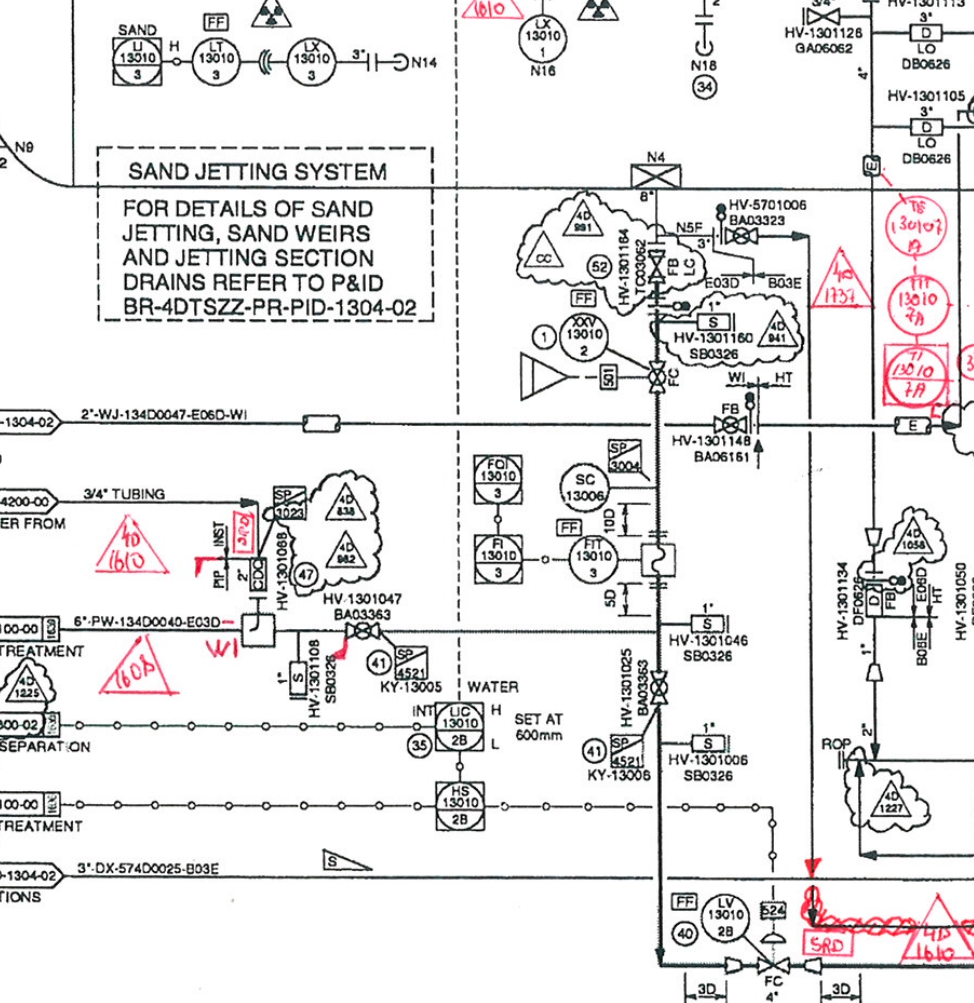Instrument: (283, 31, 344, 96), (699, 888, 754, 948), (188, 33, 245, 90), (513, 11, 573, 63), (566, 533, 619, 587), (559, 460, 611, 515), (556, 312, 612, 363)
Instrument-square: (105, 31, 169, 89), (430, 777, 492, 835), (430, 696, 489, 756), (471, 528, 528, 588), (469, 450, 526, 509)
